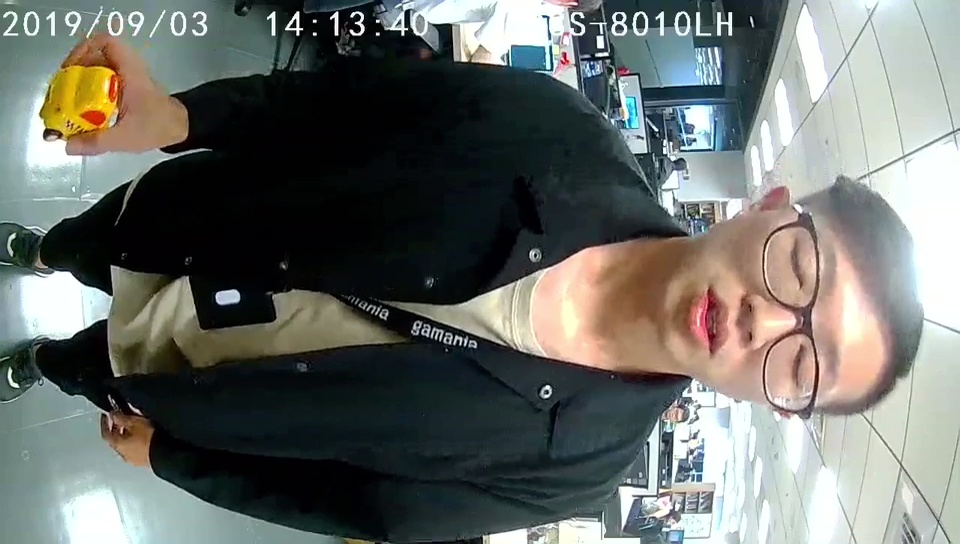car: (40, 63, 123, 143)
